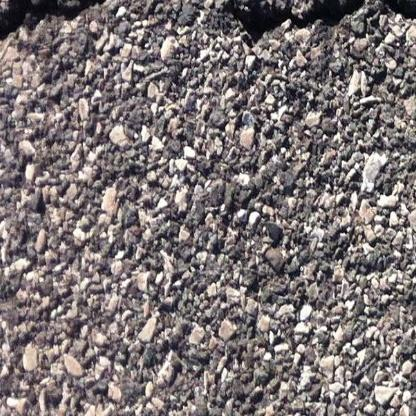Cracks: (144, 0, 416, 48), (0, 0, 133, 46)
